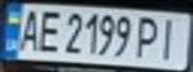1: (81, 10, 100, 55)
2: (60, 9, 84, 55)
9: (112, 11, 136, 58), (97, 11, 118, 56)
A: (12, 7, 45, 53)
E: (33, 6, 63, 54)
I: (154, 15, 187, 61)
P: (133, 12, 163, 60)
